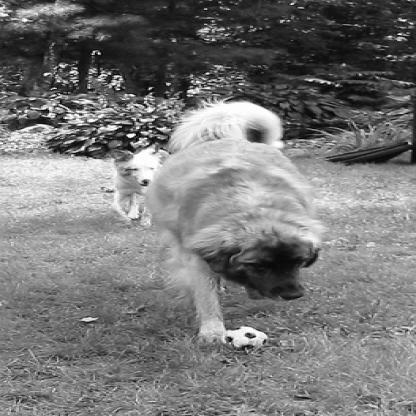Leonberger: (106, 74, 376, 370)
